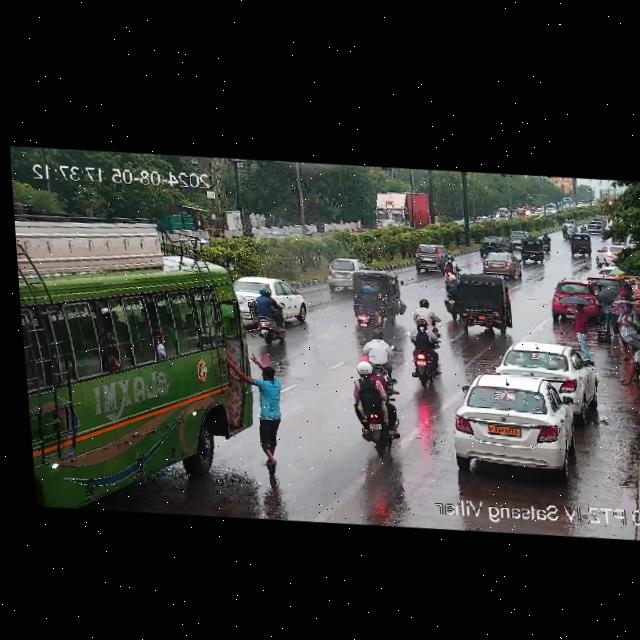bus: (18, 277, 295, 522)
car: (445, 370, 595, 477), (495, 338, 597, 407), (437, 270, 515, 331), (236, 273, 308, 320), (548, 279, 598, 319), (346, 270, 402, 299), (321, 256, 366, 290), (478, 249, 523, 277), (408, 242, 449, 272), (548, 291, 587, 319), (586, 267, 625, 291), (515, 236, 547, 262), (478, 233, 511, 254), (565, 233, 594, 255), (594, 242, 618, 264), (511, 231, 524, 250), (586, 221, 603, 233)
motorcycle: (349, 359, 402, 450), (407, 317, 448, 388), (253, 288, 294, 345), (347, 281, 387, 329), (409, 297, 436, 336), (442, 273, 459, 316), (441, 254, 459, 281), (541, 234, 550, 254), (562, 225, 573, 237), (600, 228, 608, 241), (579, 223, 587, 232)
person: (247, 357, 292, 462), (359, 326, 397, 384), (609, 338, 640, 387), (597, 288, 620, 337), (614, 294, 638, 336)
truck: (374, 186, 432, 235)
